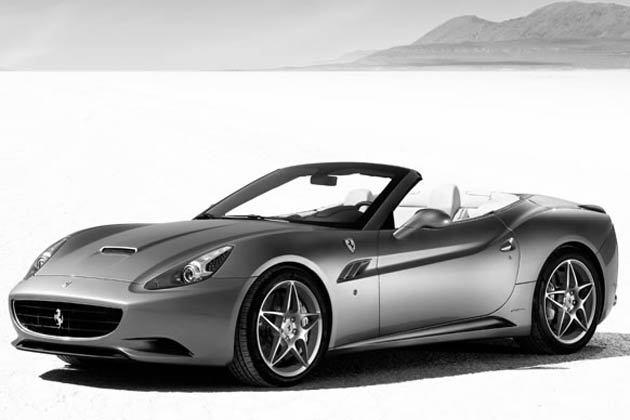car: (7, 162, 621, 388)
